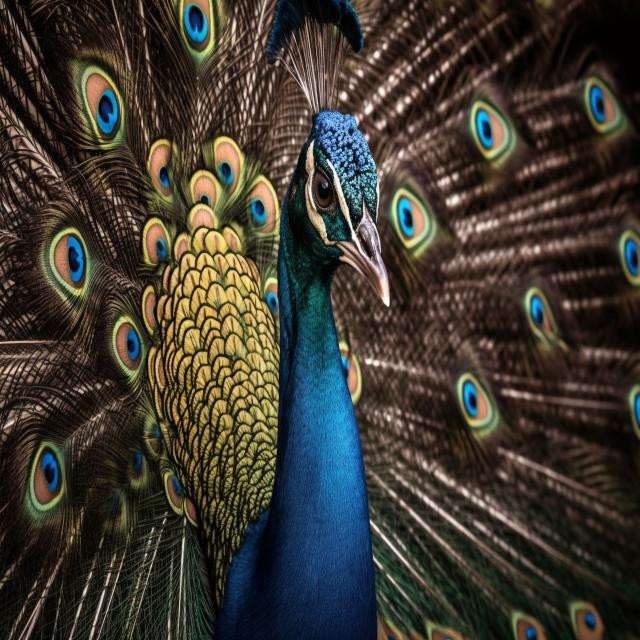peacock: (1, 3, 640, 637)
